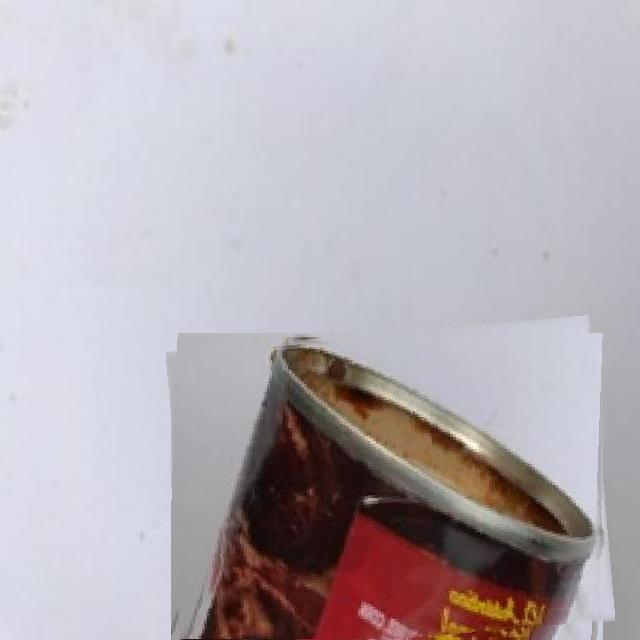recyclable: (171, 324, 609, 640)
